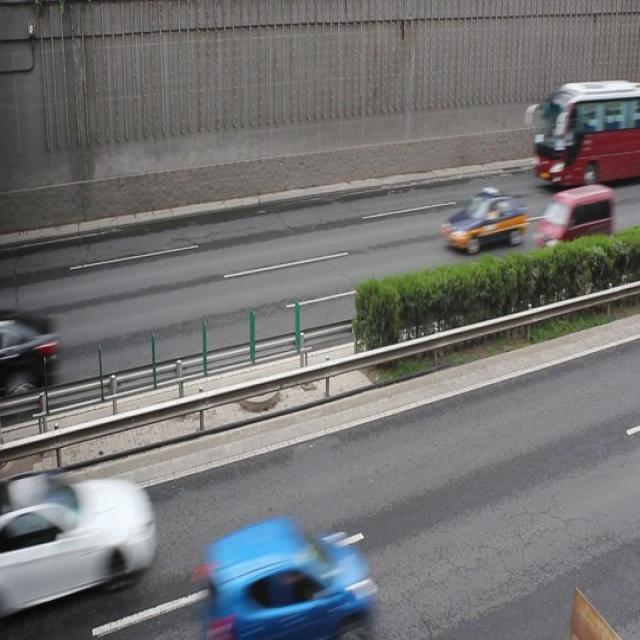car: (199, 521, 368, 640), (12, 475, 153, 605), (442, 184, 526, 252)
truck: (533, 185, 616, 258)
van: (522, 79, 640, 190)
